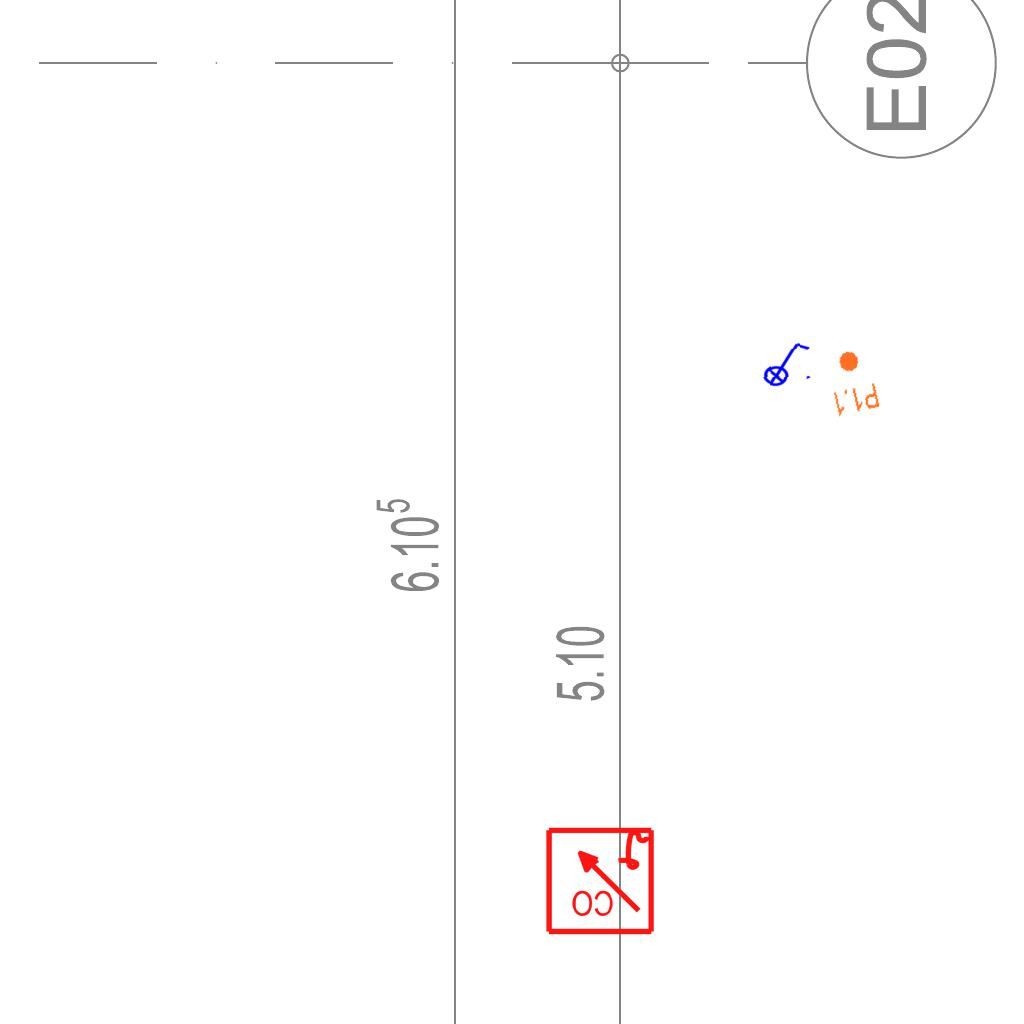Ausschalter_beleuchtet: (756, 338, 814, 388)
Downlight_LED_Einbauleuchten_Flur: (822, 345, 882, 419)
ROA_Rauchmelder_optisch_mit_Signalgeber_(Sockelsirene): (543, 823, 656, 936)
